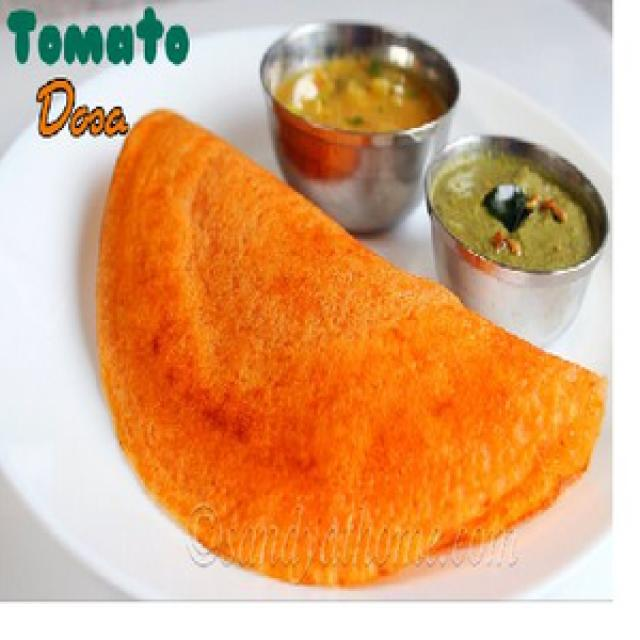dosa: (86, 93, 612, 601)
